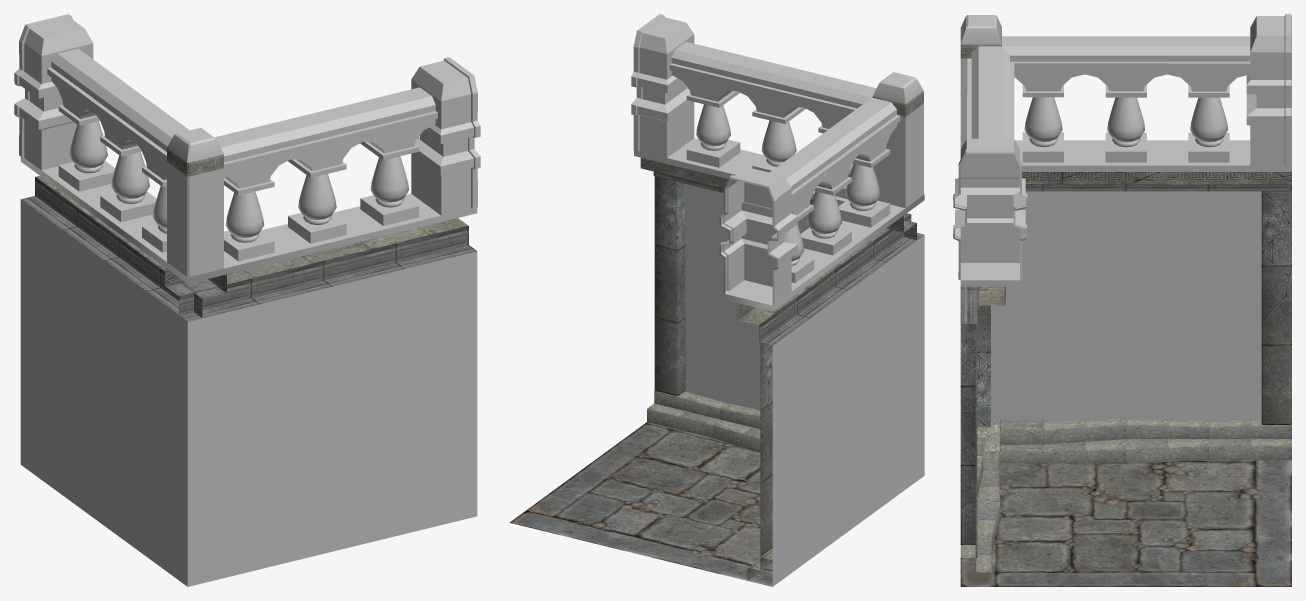
Rendered from UnderCorner.FBX.
The picture shows the model from 3 angles, left to right: view 1: azimuth 30°, elevation 25°; view 2: azimuth 150°, elevation 25°; view 3: azimuth 270°, elevation 25°; orthographic projection. The views are drawn at different scales.
Visible parts, largest first — view 1: Object31; view 2: Object31; view 3: Object31.
Part boxes in pixels (bbox=[...]): Object31: bbox=[14, 14, 480, 586]; Object31: bbox=[509, 14, 924, 586]; Object31: bbox=[953, 14, 1291, 586].
Size of the model in its own units: 511 by 725 by 511.
